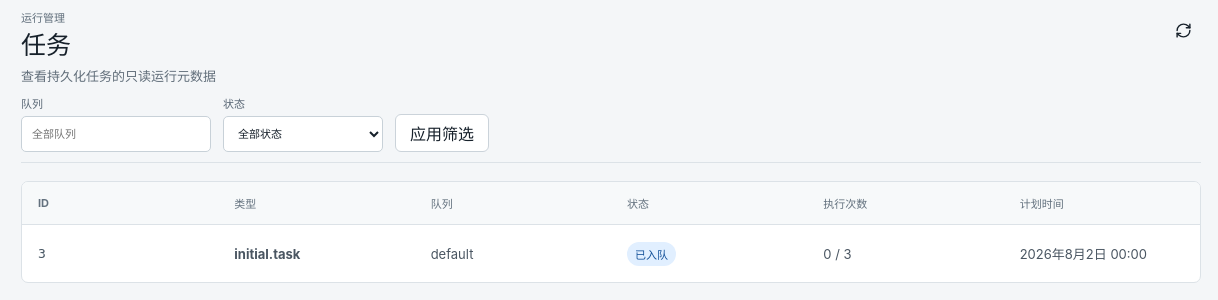
Tasks view › ignores a stale refresh response after filters change
Expected: the text "initial.task" is shown, [234,246,300,262]
Step 1. Click the button named "刷新任务" → click(1183, 30), box [1165,12,1201,48]
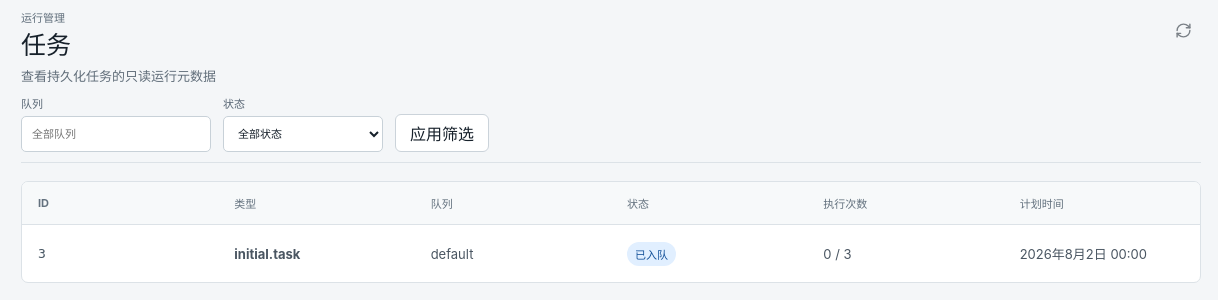
Step 2. Type "priority" into the field labelled "队列" → (116, 134), box [21,116,211,152]
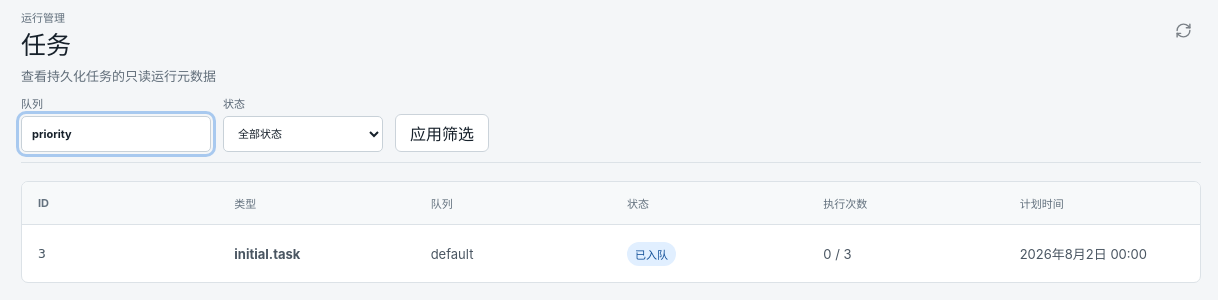
Step 3. Click the button "应用筛选" → click(442, 133), box [395,114,489,152]
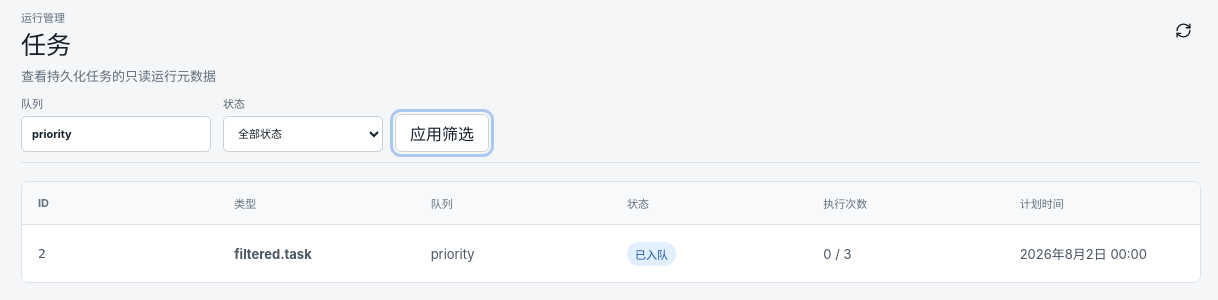
Now the text "filtered.task" is shown, box [234,246,312,262]
